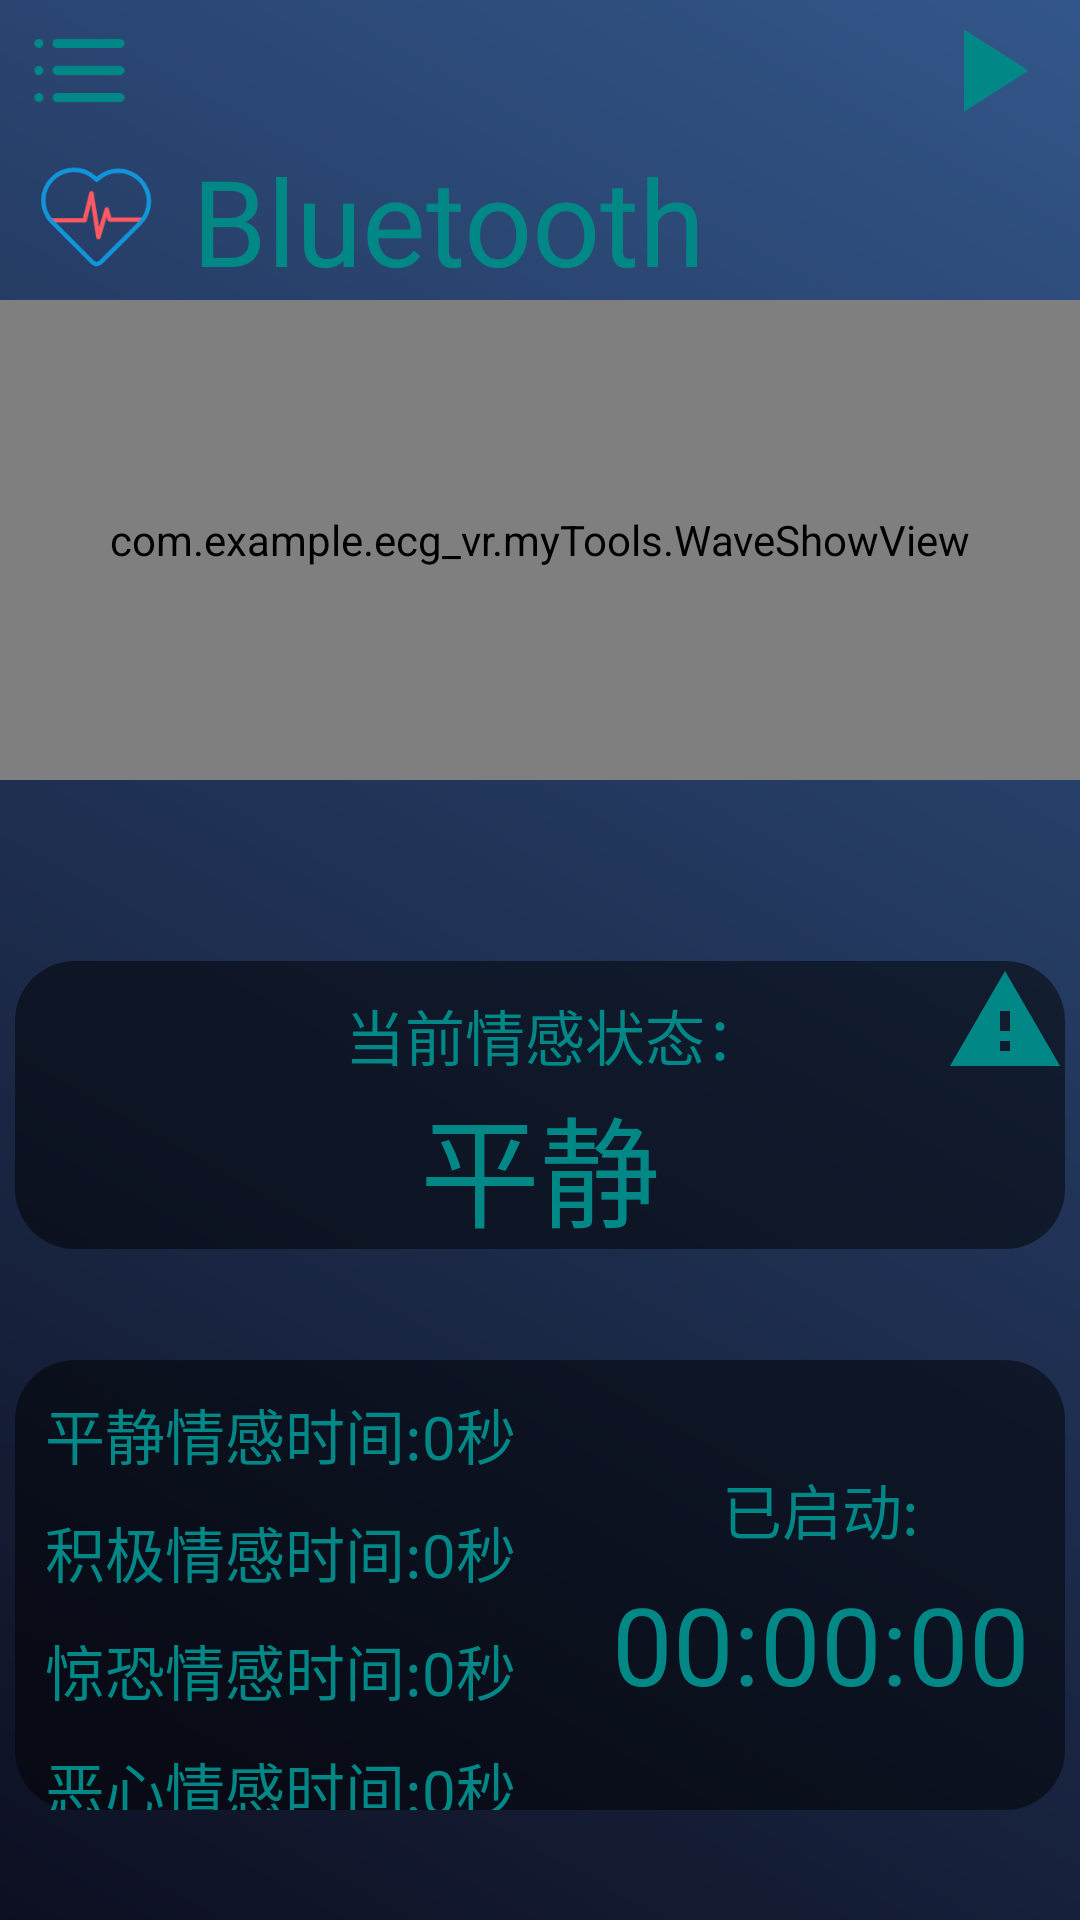

Icon click points for this 1080px x 1920px phone screenshot, format point (x, y):
menu: point (79, 70)
play arrow: point (996, 70)
warning: point (1005, 1021)
